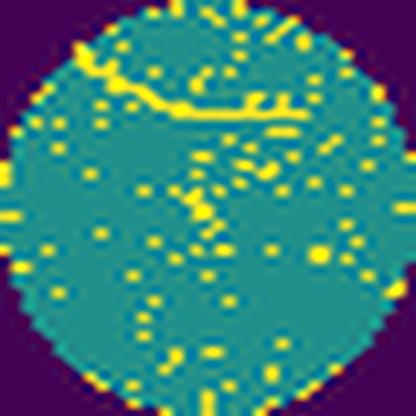Scratch: (72, 40, 316, 128)
